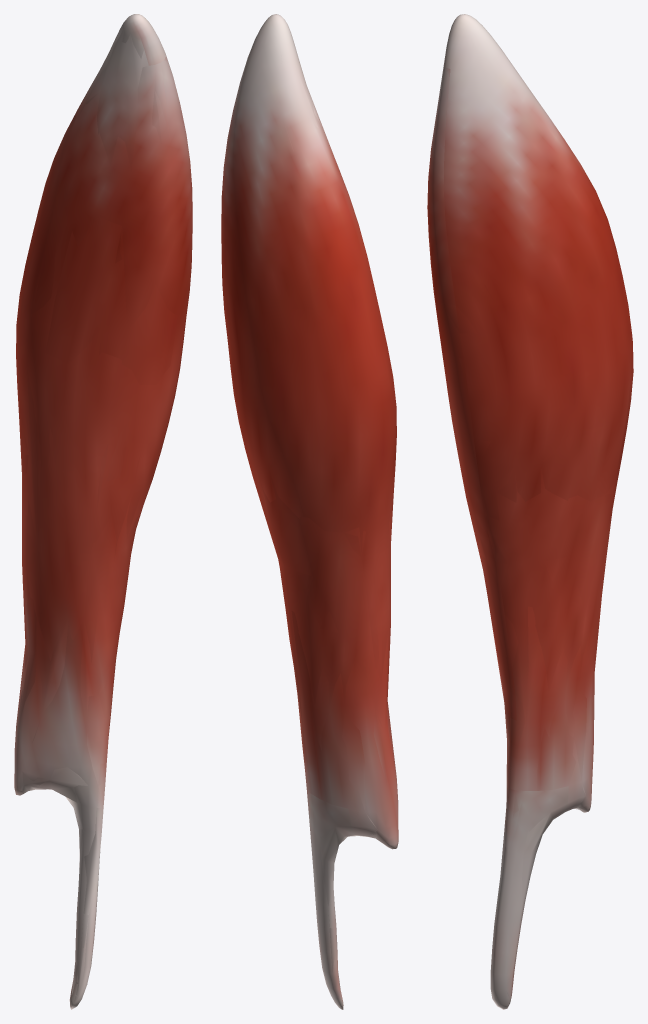
Rendered from L Ulnaris Lateralis.fbx.
3 renders of one model, left to right at view 1: azimuth 30°, elevation 25°; view 2: azimuth 210°, elevation 25°; view 3: azimuth 270°, elevation 25°, orthographic. The views are drawn at different scales.
Visible parts, largest first — view 1: L Ulnaris Lateralis, L Ulnaris Lateralis low; view 2: L Ulnaris Lateralis, L Ulnaris Lateralis low; view 3: L Ulnaris Lateralis, L Ulnaris Lateralis low.
Boxes of the visible parts, x1,y1,x2,y2 form: L Ulnaris Lateralis: (14,14,192,1009); L Ulnaris Lateralis low: (16,30,191,1009); L Ulnaris Lateralis: (221,14,398,1009); L Ulnaris Lateralis low: (221,49,396,999); L Ulnaris Lateralis: (427,14,633,1009); L Ulnaris Lateralis low: (431,43,615,997).
Size of the model in its own units: 5.79 by 45.1 by 8.27.
